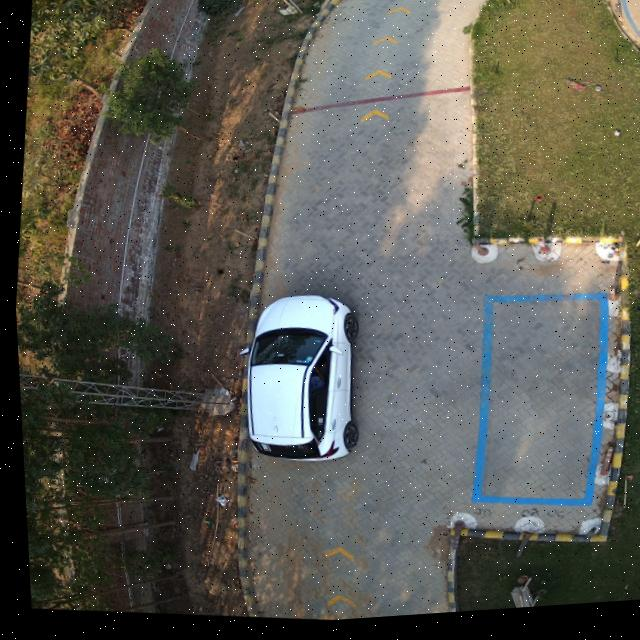car: (242, 296, 354, 464)
